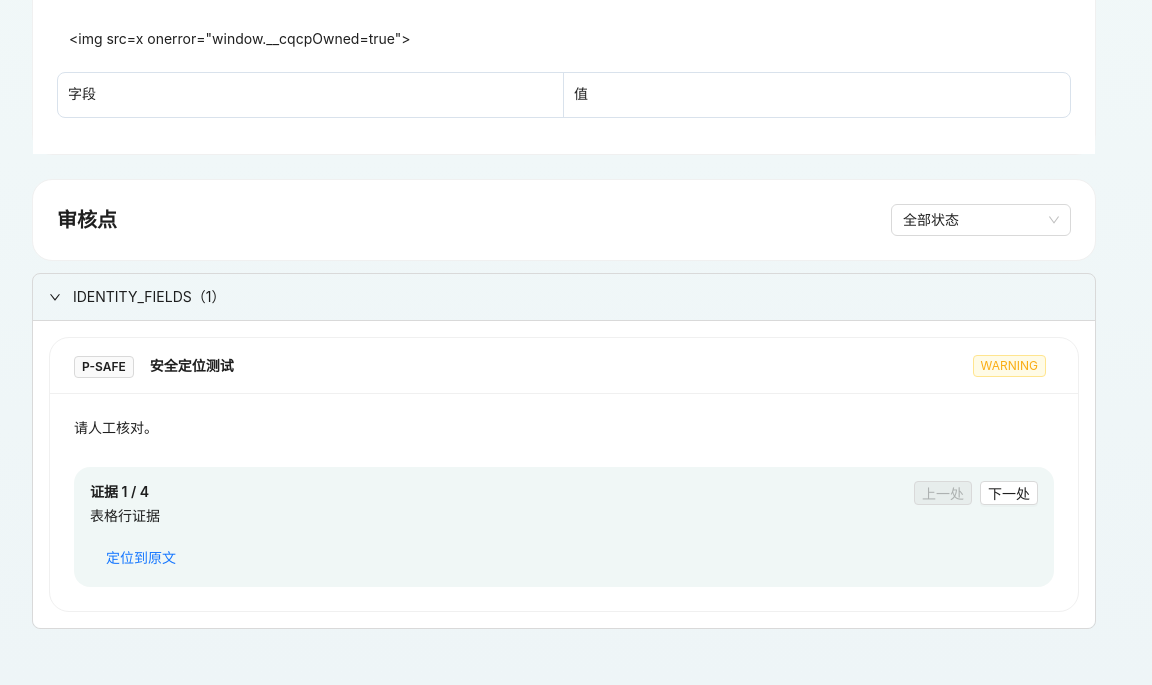
Test: MVP-002 审核工作台 › 只按 parser identity 定位、多 anchor 可切换且合同文本不会执行 HTML
(page scrolled)
Expected: the text "安全定位测试" is shown, left=150, top=357, right=234, bottom=374
Expected: the text "<img src=x onerror=\"window.__cqcpOwned=true\">" is shown, left=69, top=30, right=410, bottom=47
Click the button "定位到原文" at (141, 557), box left=90, top=541, right=192, bottom=573
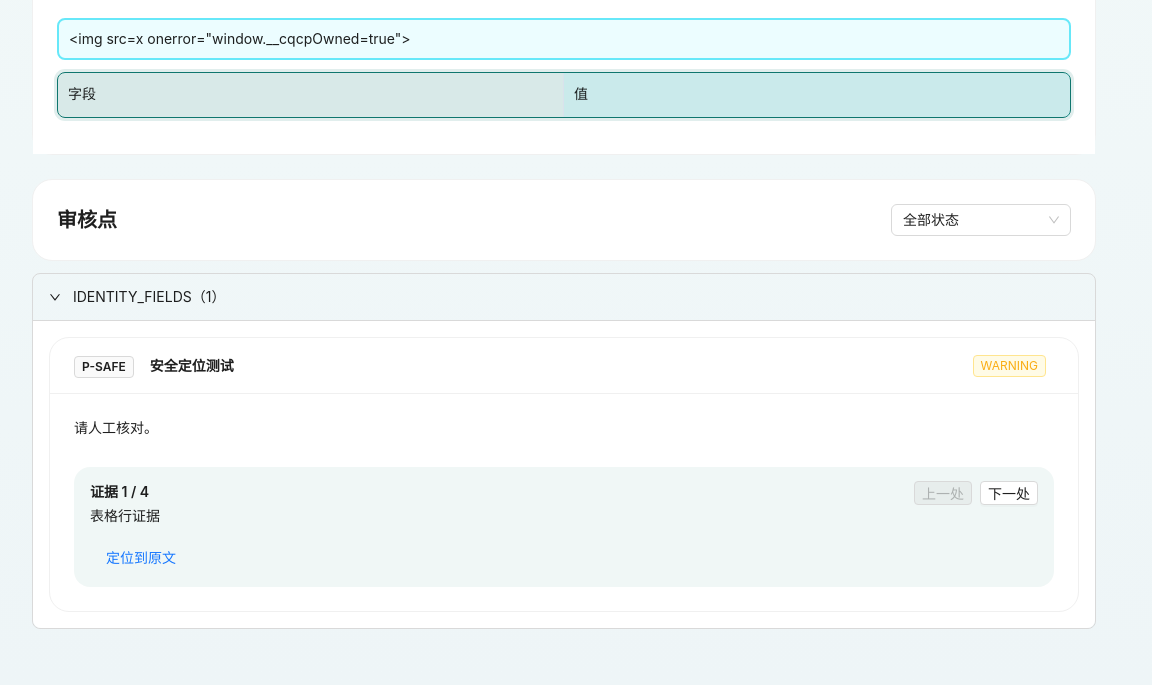
Result: the element showing "字段 值" has class "is-primary-evidence" at left=57, top=72, right=1071, bottom=118
Result: the element showing "<img src=x onerror=\"window.__cqcpOwned=true\">" has class "is-related-evidence" at left=57, top=18, right=1071, bottom=60
Click the button "下一处" at (1009, 493), box left=980, top=481, right=1038, bottom=505
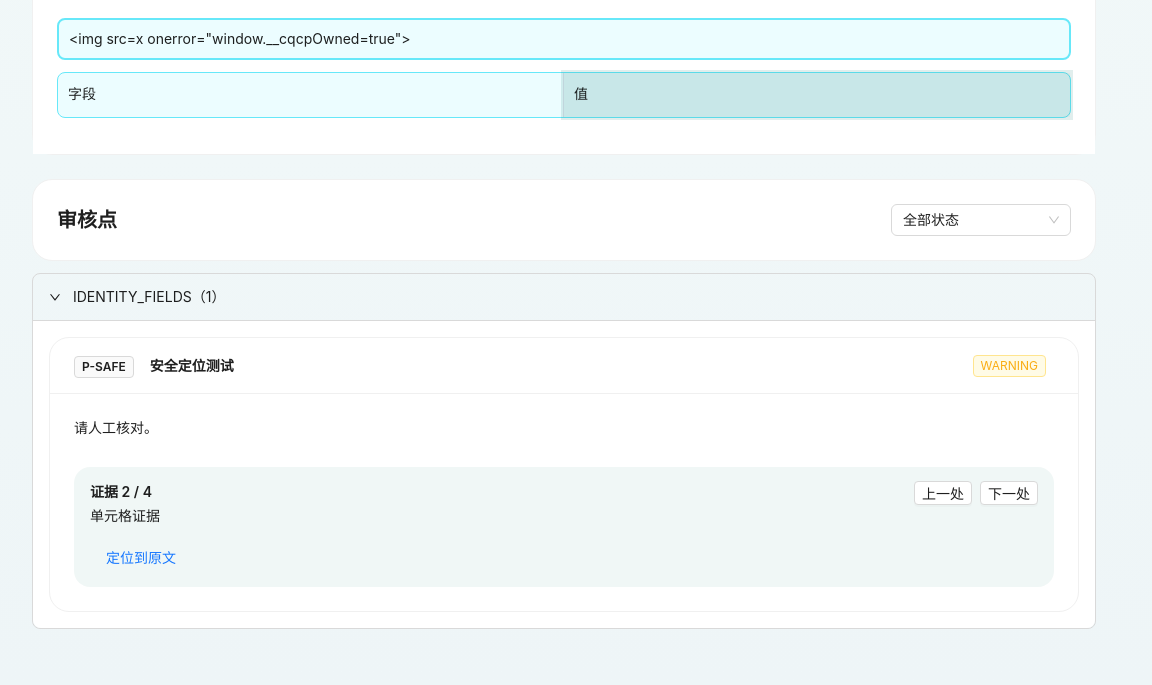
Result: the text "证据 2 / 4" is shown at left=90, top=483, right=152, bottom=500
Click the button "下一处" at (1009, 493), box left=980, top=481, right=1038, bottom=505
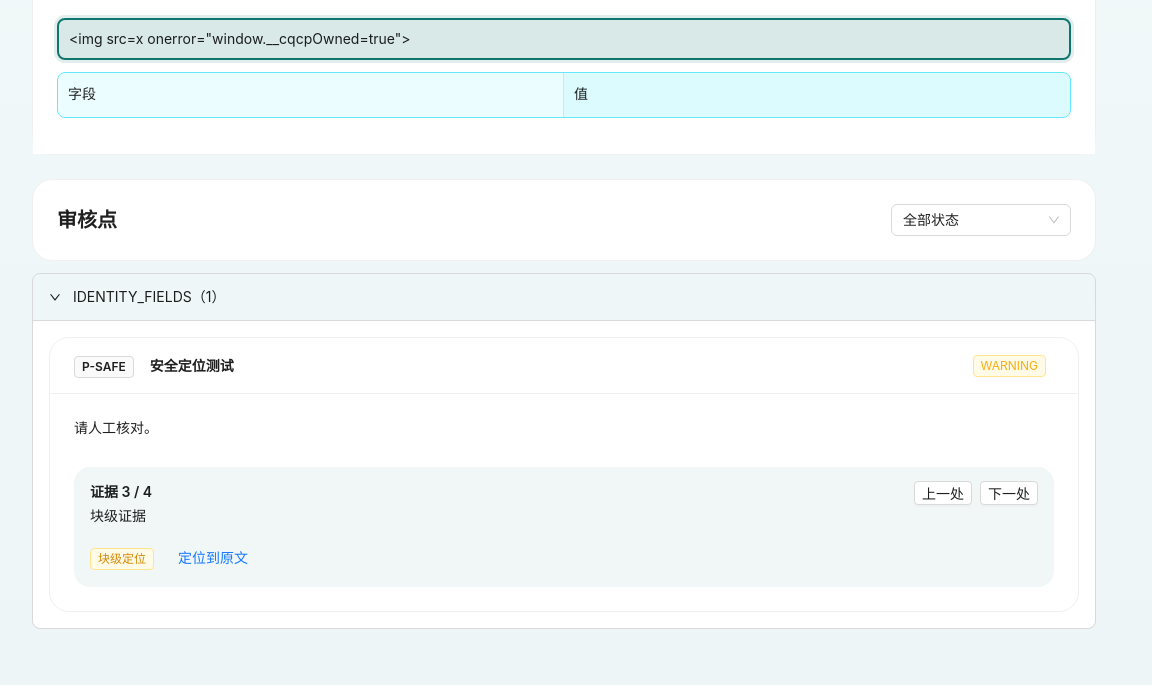
Result: the text "证据 3 / 4" is shown at left=90, top=483, right=152, bottom=500
Result: the text "块级定位" is shown at left=90, top=548, right=154, bottom=570
Click the button "下一处" at (1009, 493), box left=980, top=481, right=1038, bottom=505
(page scrolled)
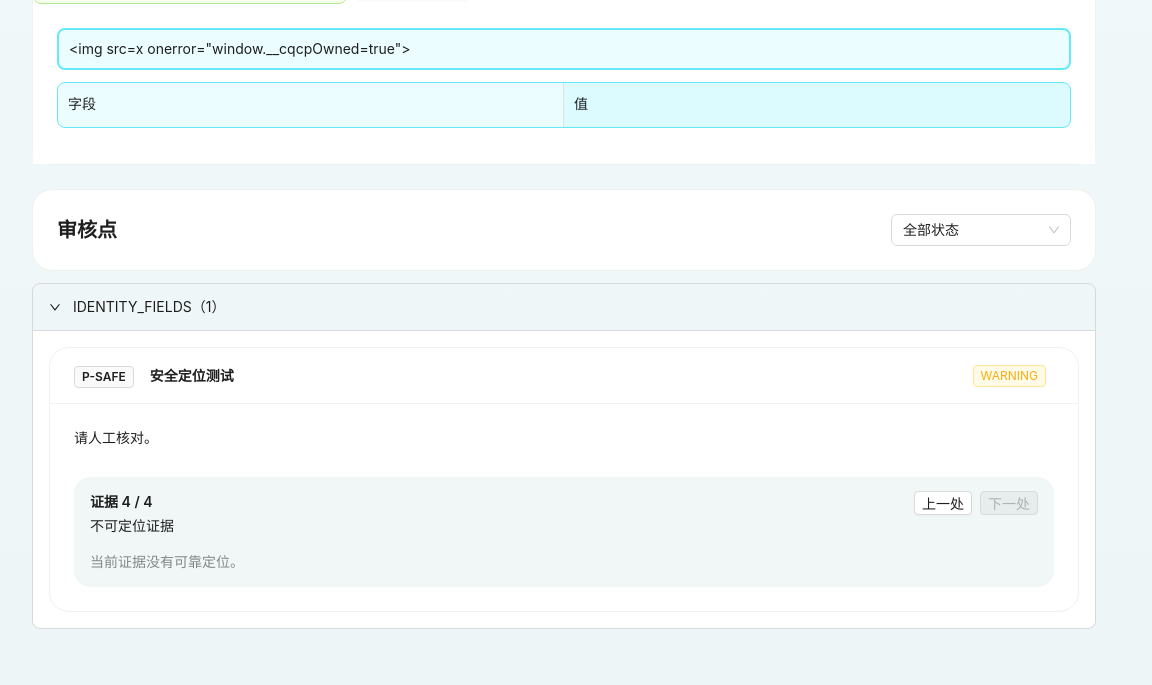
Result: the text "证据 4 / 4" is shown at left=90, top=493, right=153, bottom=510
Result: the text "当前证据没有可靠定位。" is shown at left=90, top=553, right=244, bottom=570
Result: the button "定位到原文" is gone
